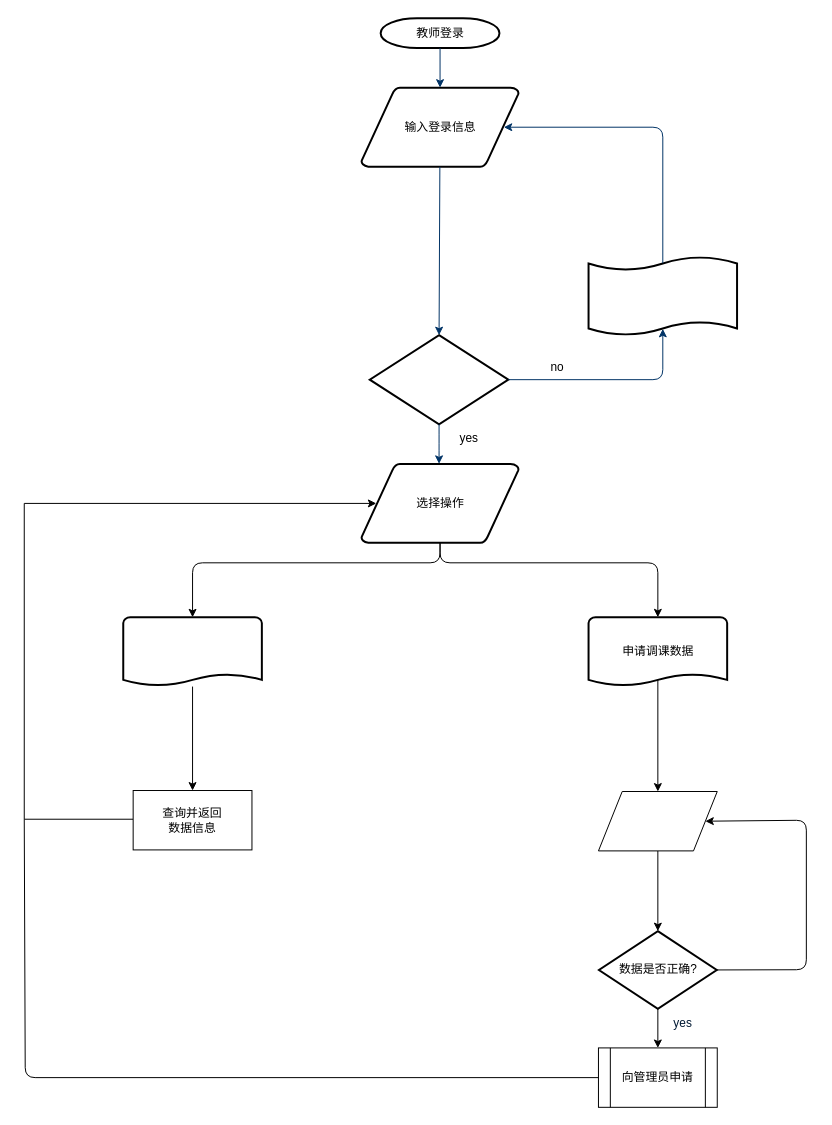
This 832x1125 diagram has some shape labels left out. The centre of each missing label's shape, as x and y in pixels:
"信息正确?" belongs at point (438, 379).
"修改信息" belongs at point (657, 821).
"查询信息" belongs at point (192, 651).
"返回错误信息" belongs at point (662, 295).
